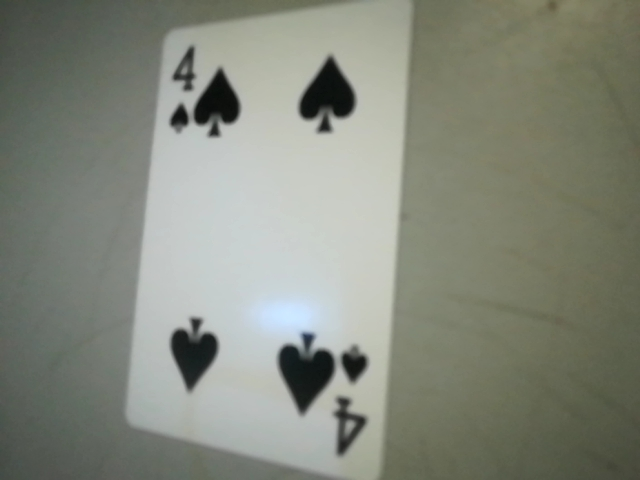ht 4: (318, 327, 381, 479)
